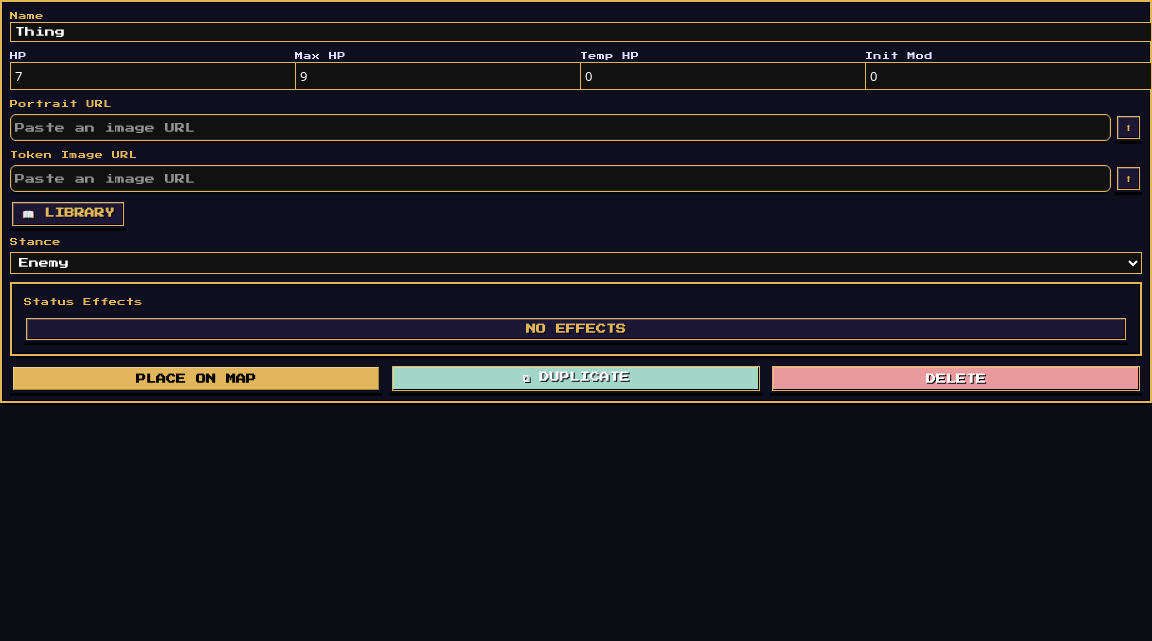
NPCEditor — library picks › with no portrait on file, a pick sets the master as token and the medium as portrait
The image size is (1152, 641).
Step 1. Click the button "📖 Library" → coordinates (68, 214), box [10,200,126,228]
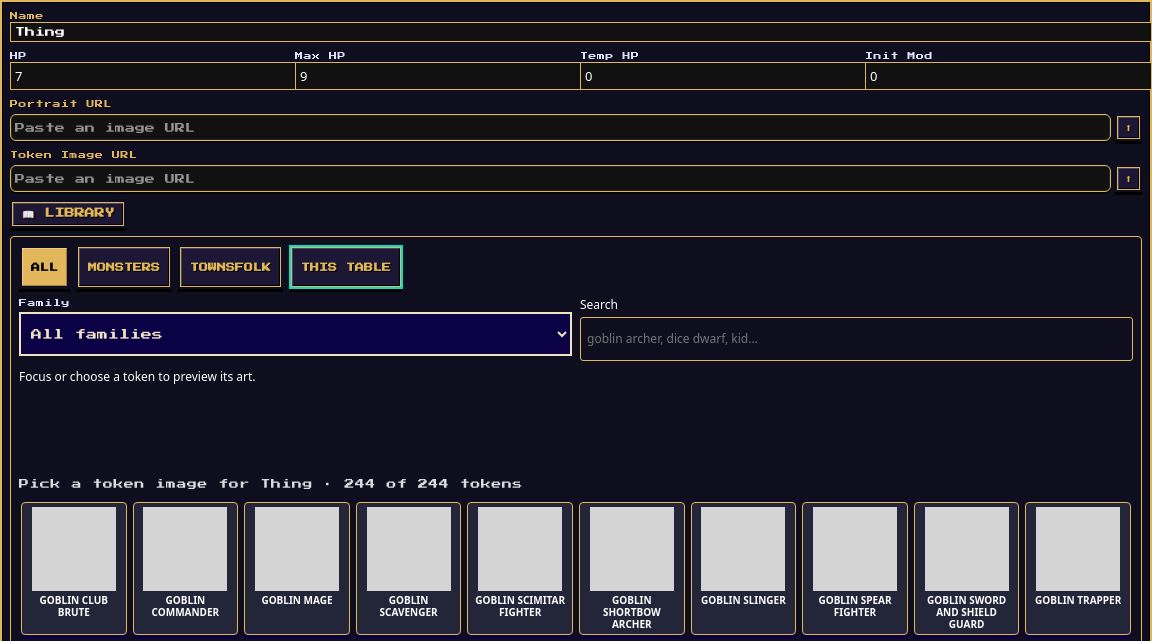
Step 2. Click the button "Goblin club brute" → coordinates (74, 568), box [21,502,127,635]
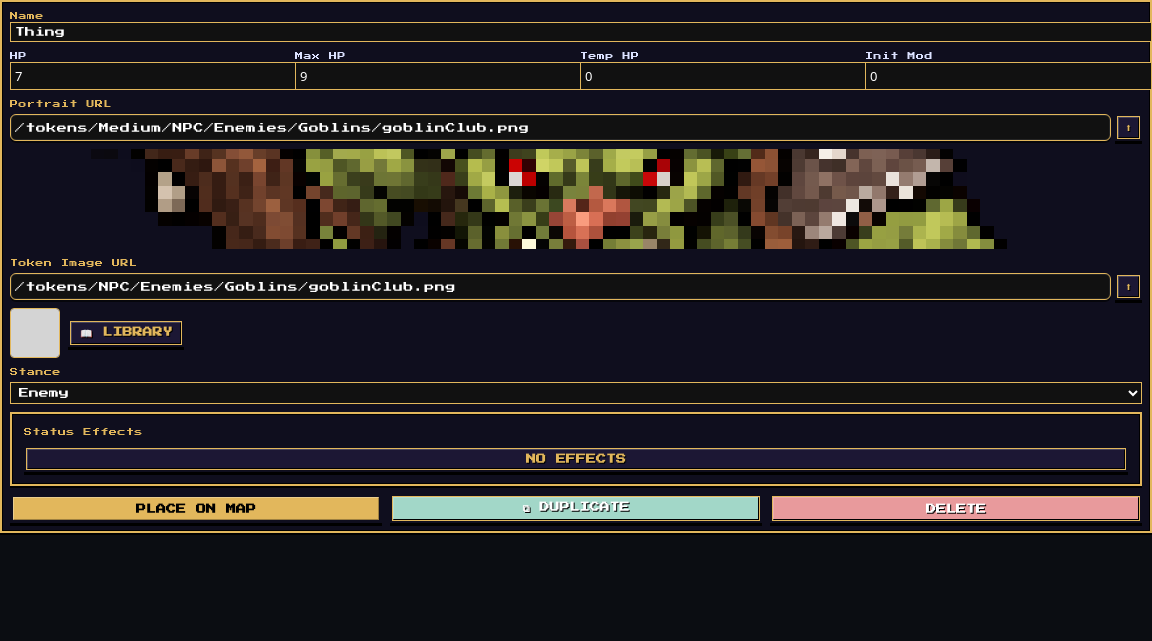
Result: the field labelled "Token Image URL" holds "/tokens/NPC/Enemies/Goblins/goblinClub.png" at [10,273,1111,300]
Result: the field labelled "Portrait URL" holds "/tokens/Medium/NPC/Enemies/Goblins/goblinClub.png" at [10,114,1111,141]
